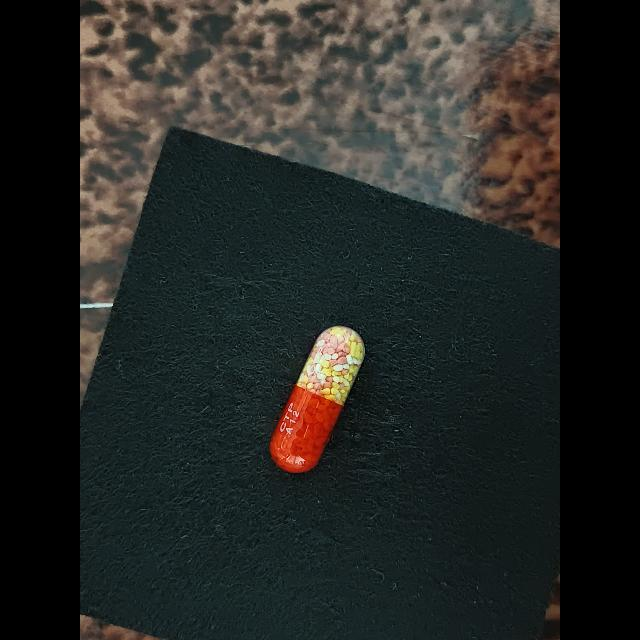Intact Capsule: (270, 326, 365, 473)
